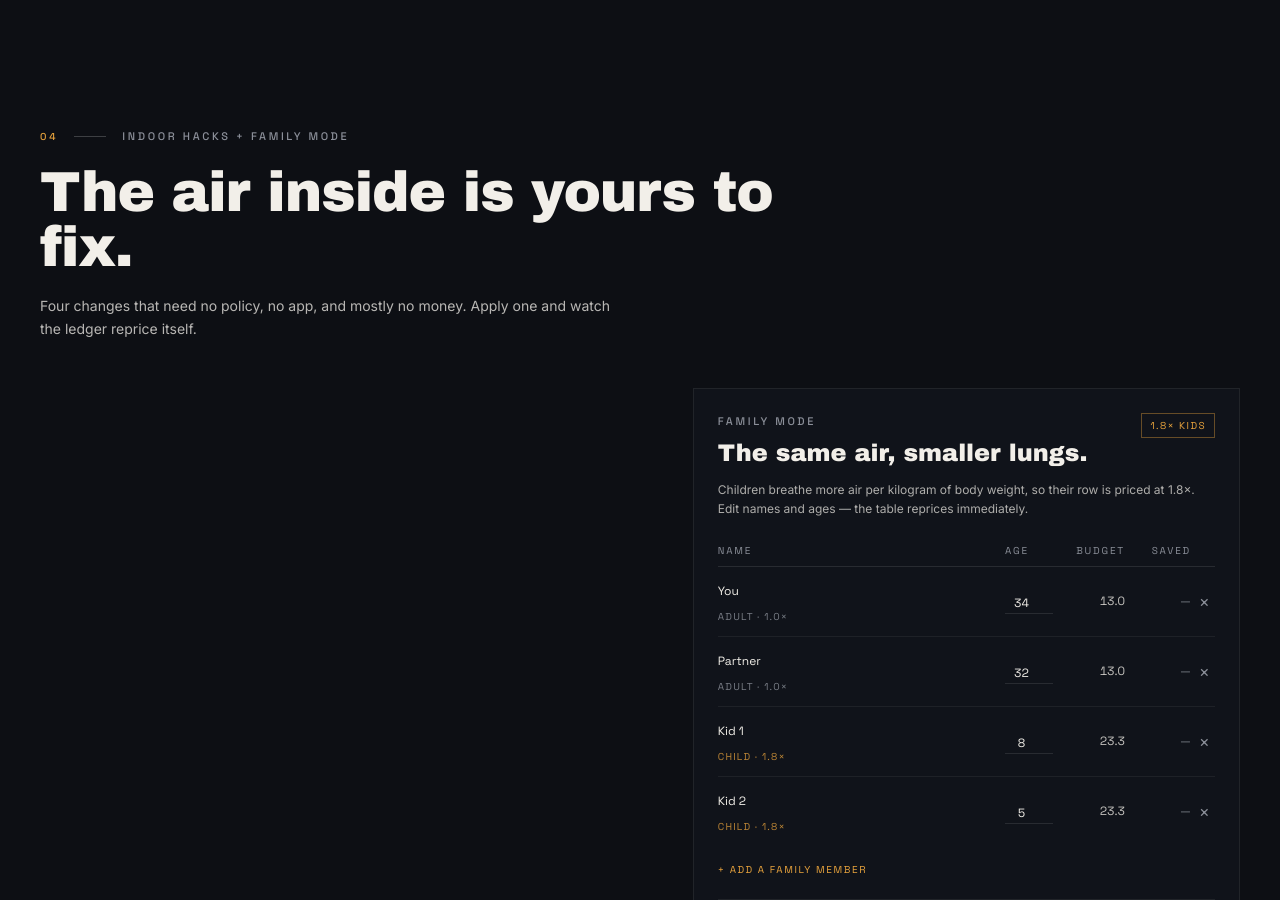
Test: HacksAct › reprices a child as an adult when their age changes
Replace the text in the number field named "Kid 1 age" with "30": (1029, 743) [1005, 733, 1053, 754]
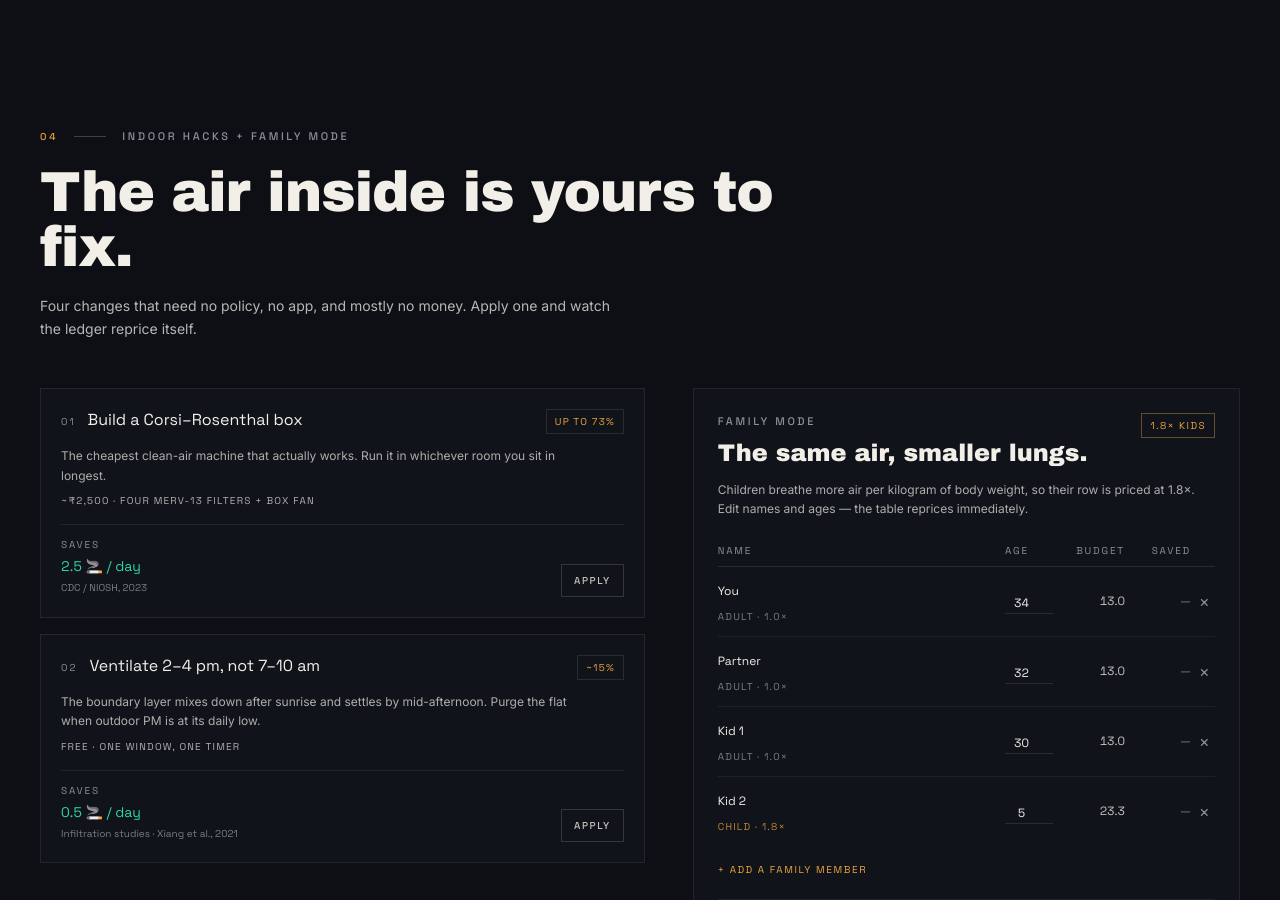
Check: the text "child · 1.8×" is shown once, box [718, 820, 786, 833]
Check: the text "adult · 1.0×" is shown 3 times, box [718, 610, 788, 623]; [718, 680, 788, 693]; [718, 750, 788, 763]
